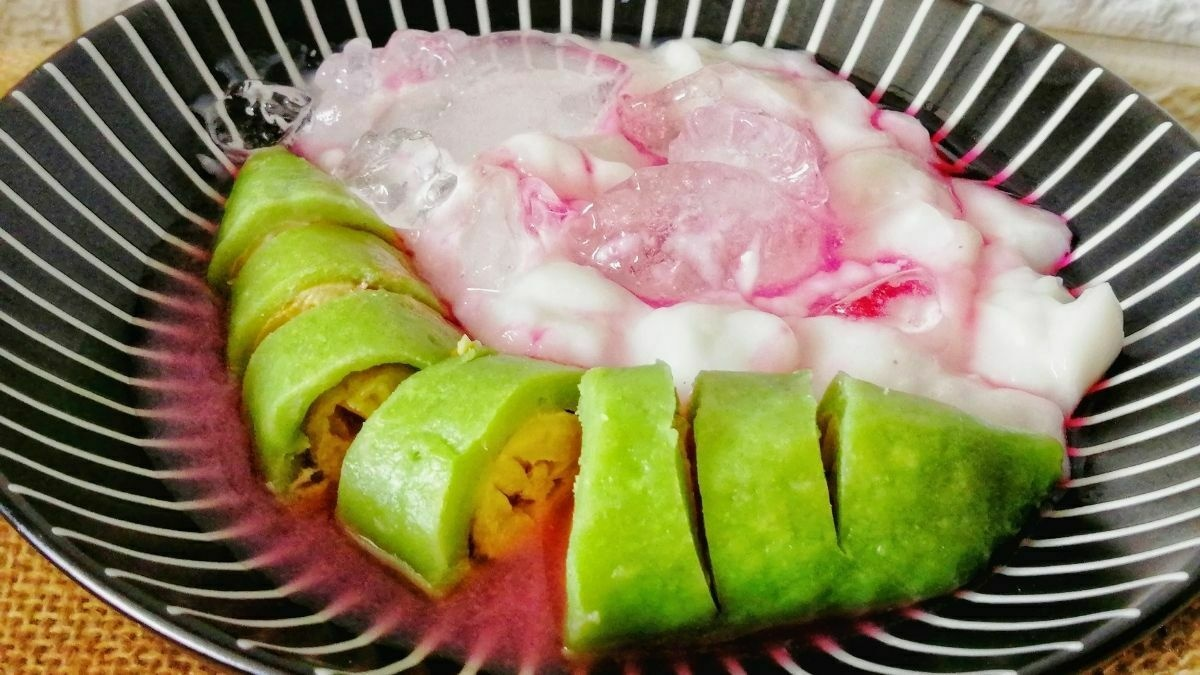es_pisang_ijo: (161, 27, 1092, 648)
